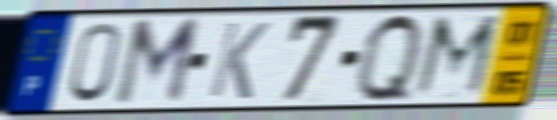0: (67, 20, 125, 106)
7: (280, 12, 344, 108)
K: (205, 19, 273, 102)
M: (109, 14, 204, 110), (408, 12, 505, 102)
Q: (354, 9, 425, 106)
